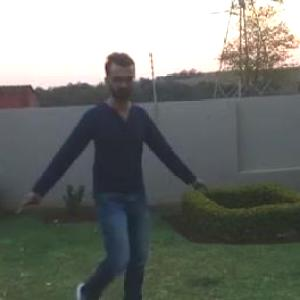land: (41, 59, 199, 299)
